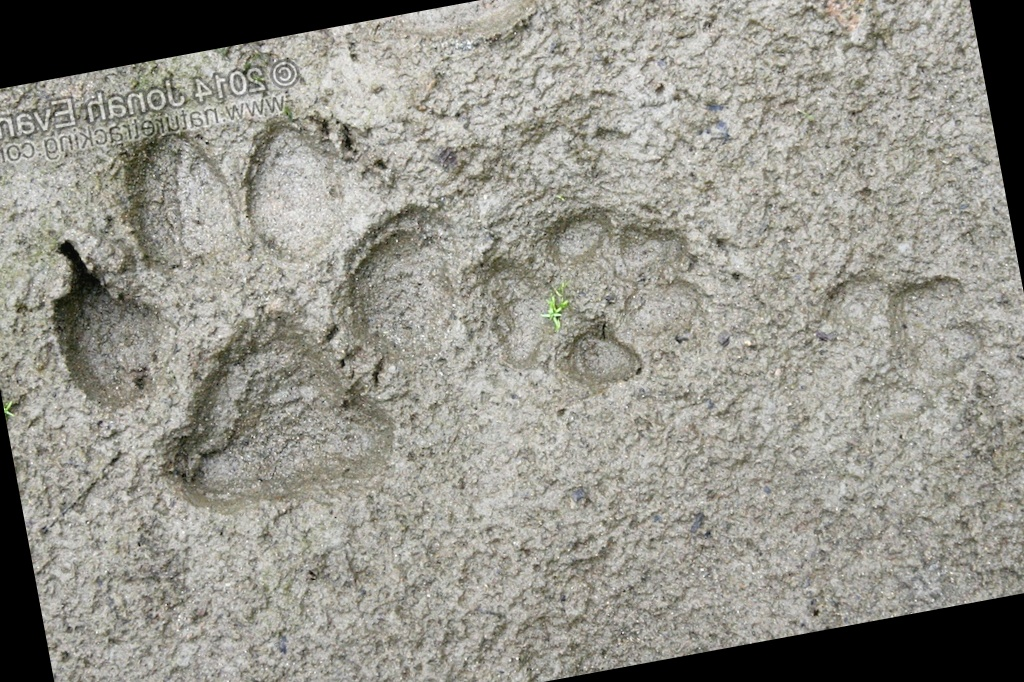coyote: (14, 71, 497, 532), (465, 186, 724, 411)
